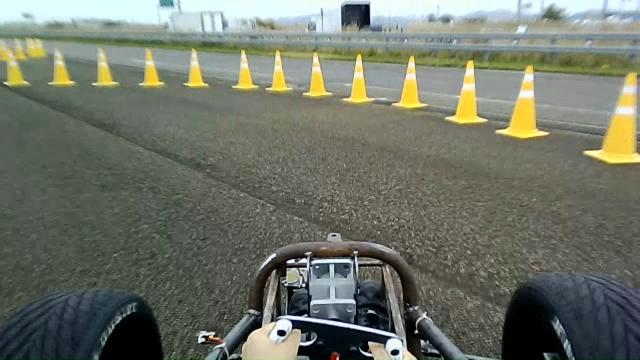yellow cone: (583, 72, 639, 165), (495, 64, 549, 139), (444, 59, 488, 124), (391, 55, 428, 109), (341, 53, 375, 104), (302, 51, 332, 97), (265, 49, 293, 92), (231, 49, 259, 90), (183, 47, 209, 88)
